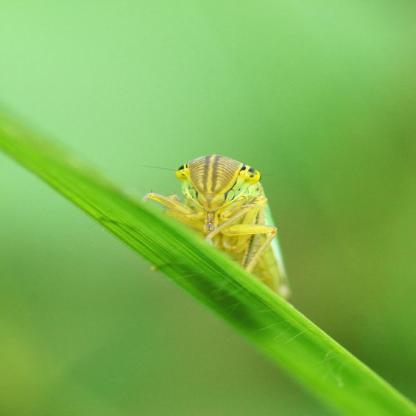Green-Leafhopper: (139, 154, 298, 304)
